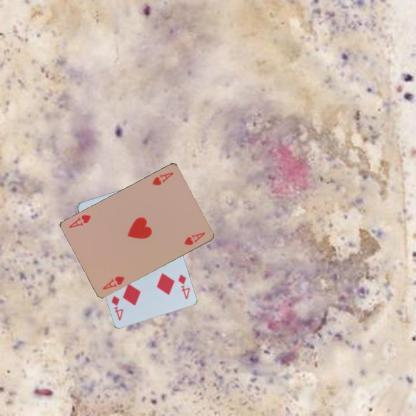4d: (175, 272, 191, 300)
Ah: (100, 273, 126, 291), (150, 169, 174, 187)
